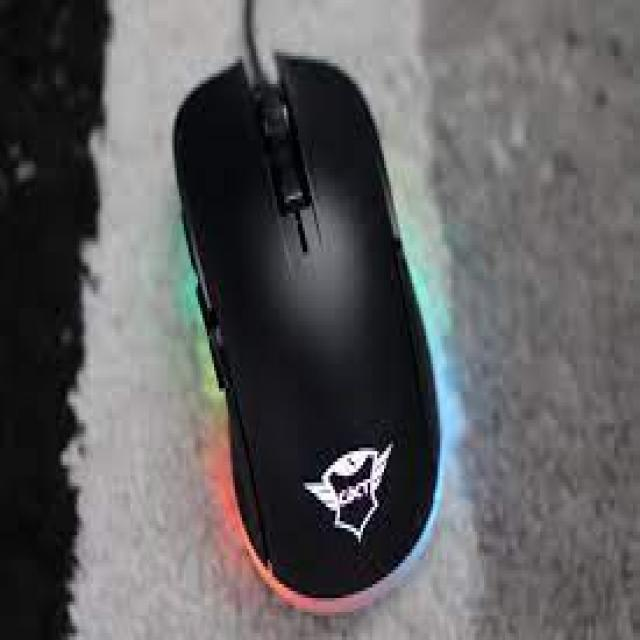others: (158, 3, 472, 616)
